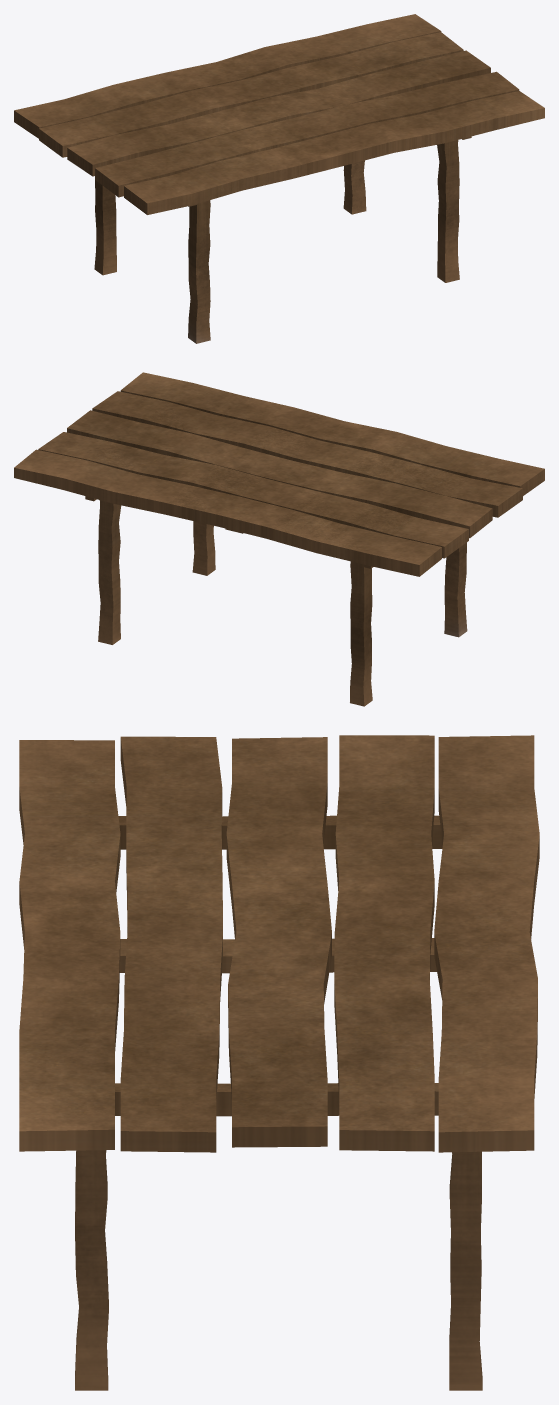
File: table.glb
3 views of the same model, one above another, from view 1: azimuth 30°, elevation 25°; view 2: azimuth 150°, elevation 25°; view 3: azimuth 270°, elevation 25° (orthographic). The views are drawn at different scales.
Visible parts, largest first — view 1: Table; view 2: Table; view 3: Table.
Boxes of the visible parts, bbox=[...] form: Table: bbox=[14, 14, 544, 343]; Table: bbox=[14, 372, 544, 706]; Table: bbox=[19, 735, 539, 1390].
Bounding box in the file's own units: 242 × 95.94 × 135.
1 material, 1 textured.
